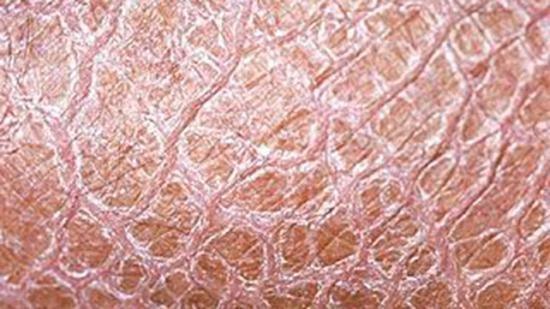Dry-Skin: (61, 33, 468, 293)
